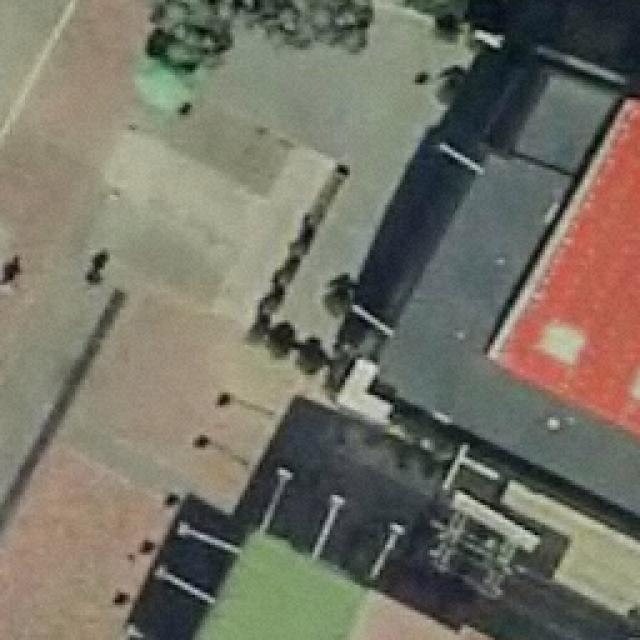vendedor_ambulante: (131, 48, 202, 122)
